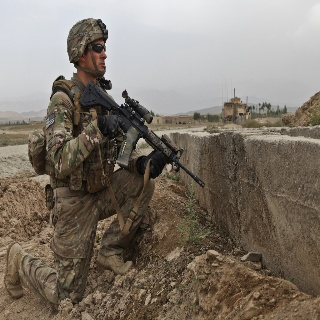rifle: (78, 80, 206, 188)
